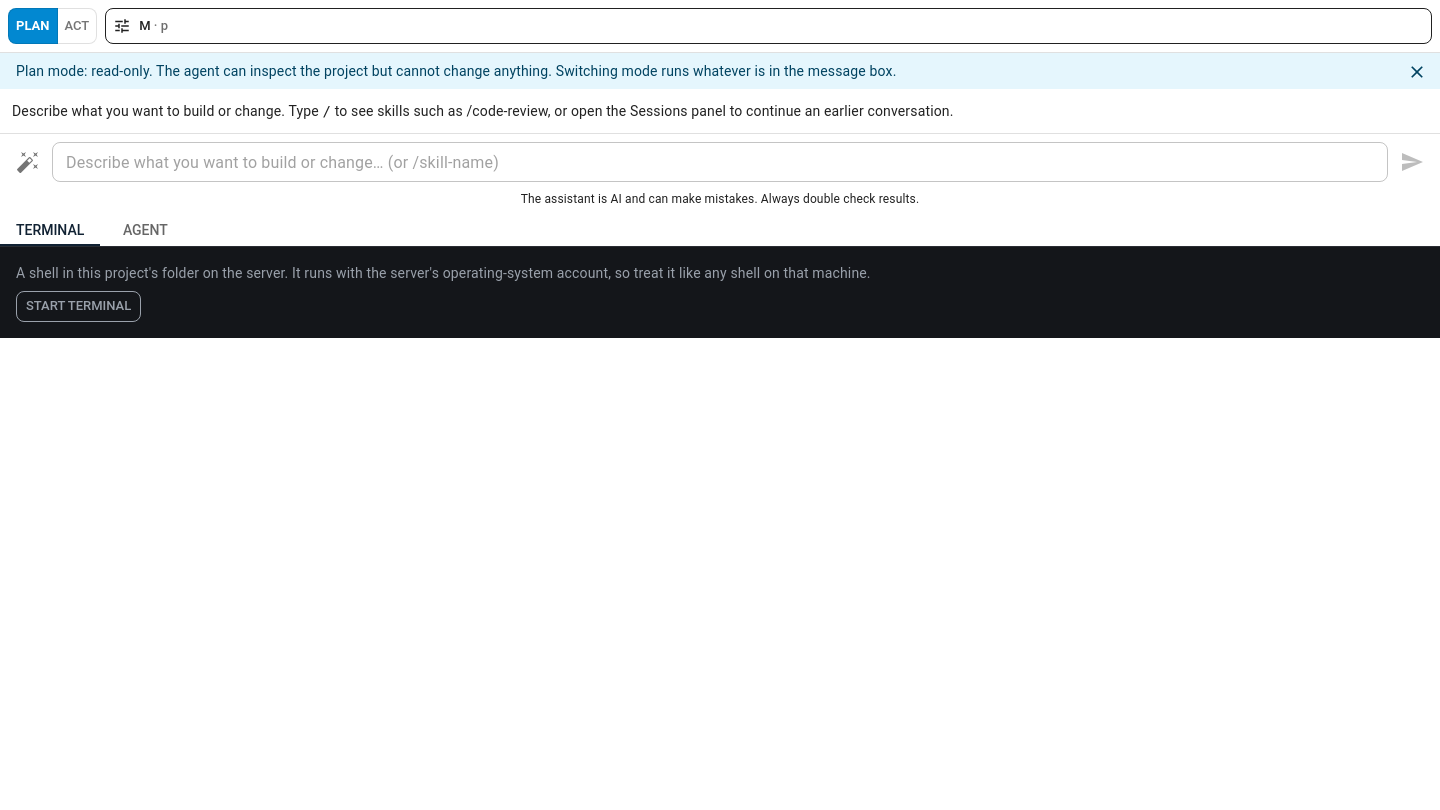
command approval (Allow / Deny) › the chat panel and the terminal pane share one prompt: answering in either clears both
Type "deploy" into the text box named "Message" at (720, 162), box 66,150 -> 1374,174
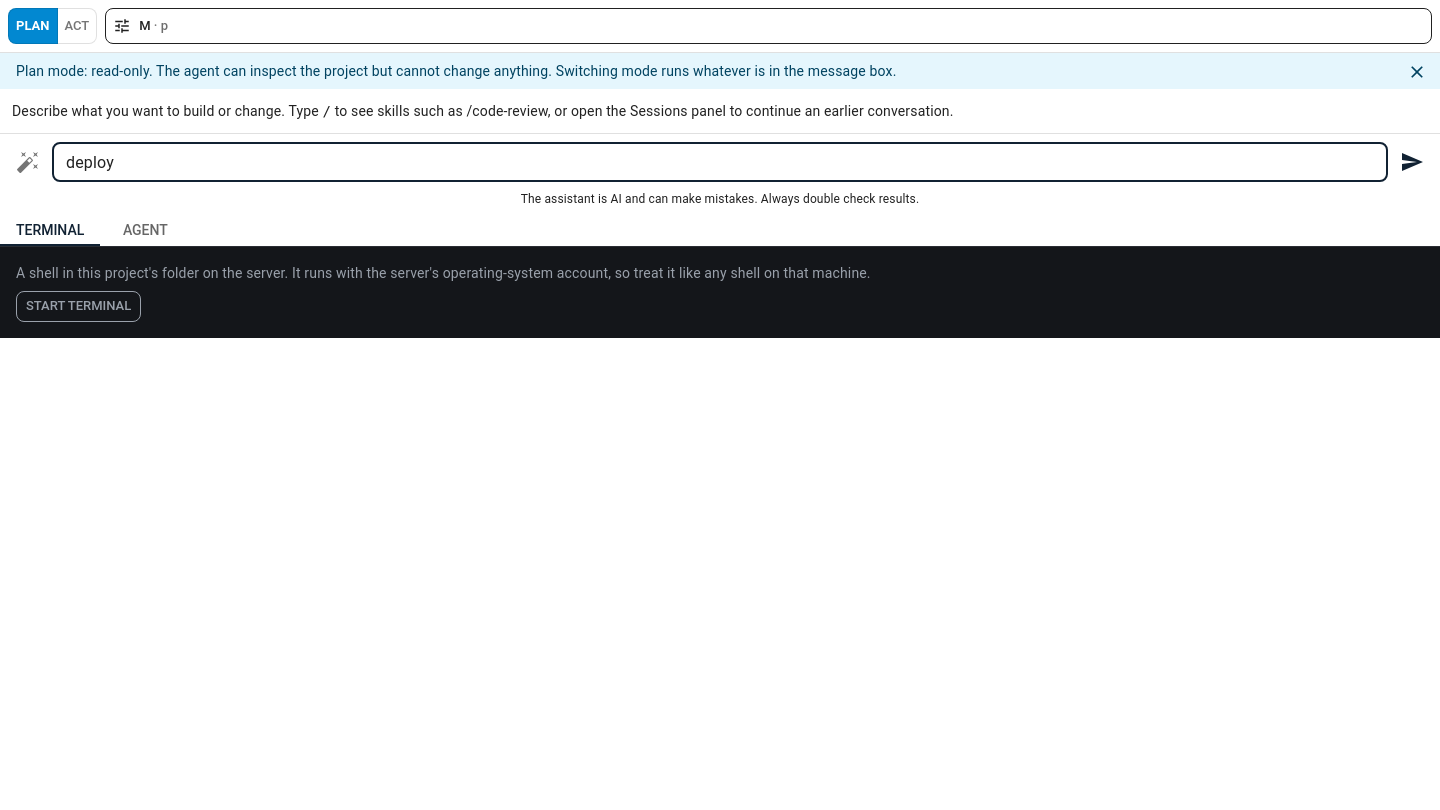
Click the button named "Send" at (1412, 162), box 1392,142 -> 1432,182
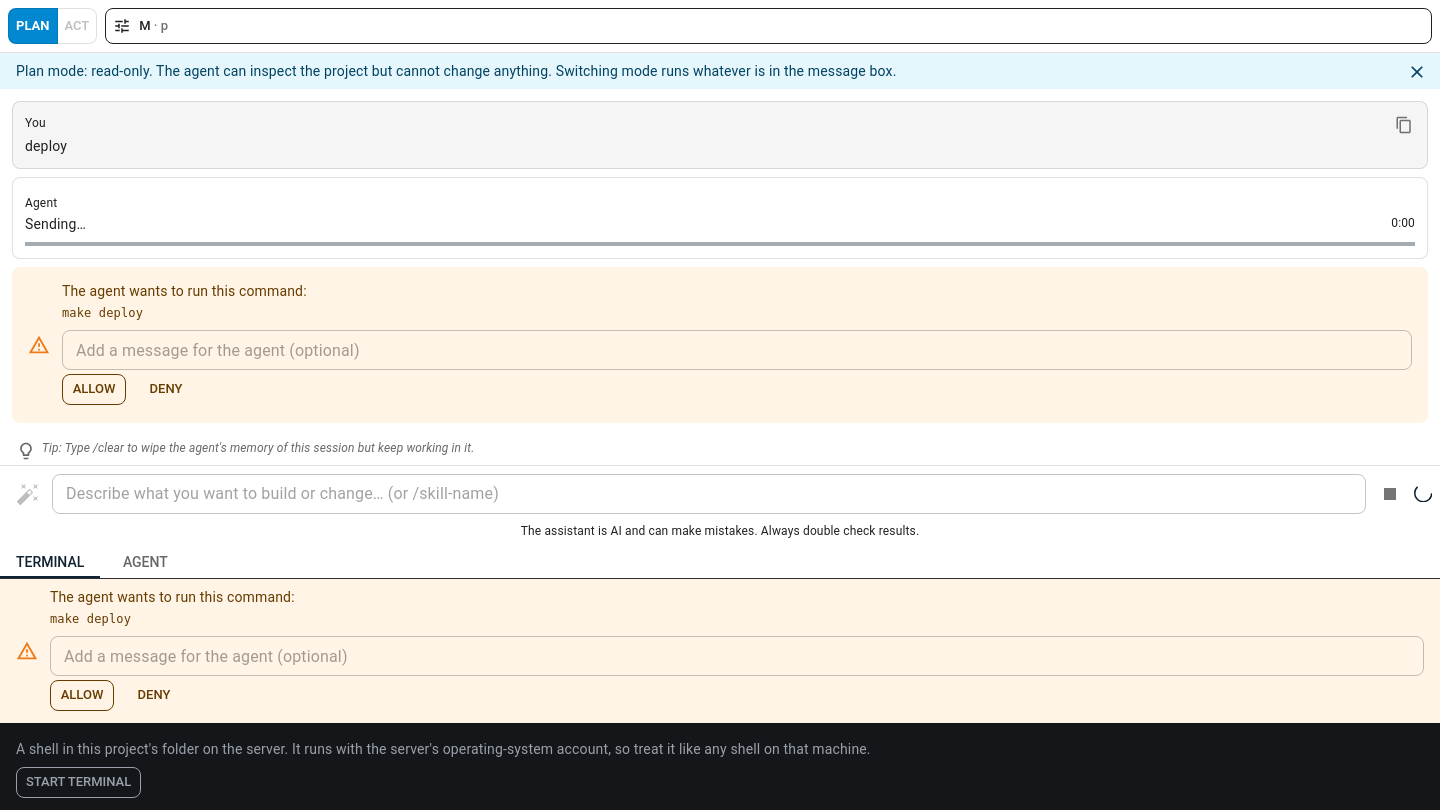
Result: the number of dialogs with test id "approval" is 2 at 12,267 -> 1428,423; 0,579 -> 1439,723
Click the 2nd button "Allow" at (82, 695), box 50,680 -> 114,711
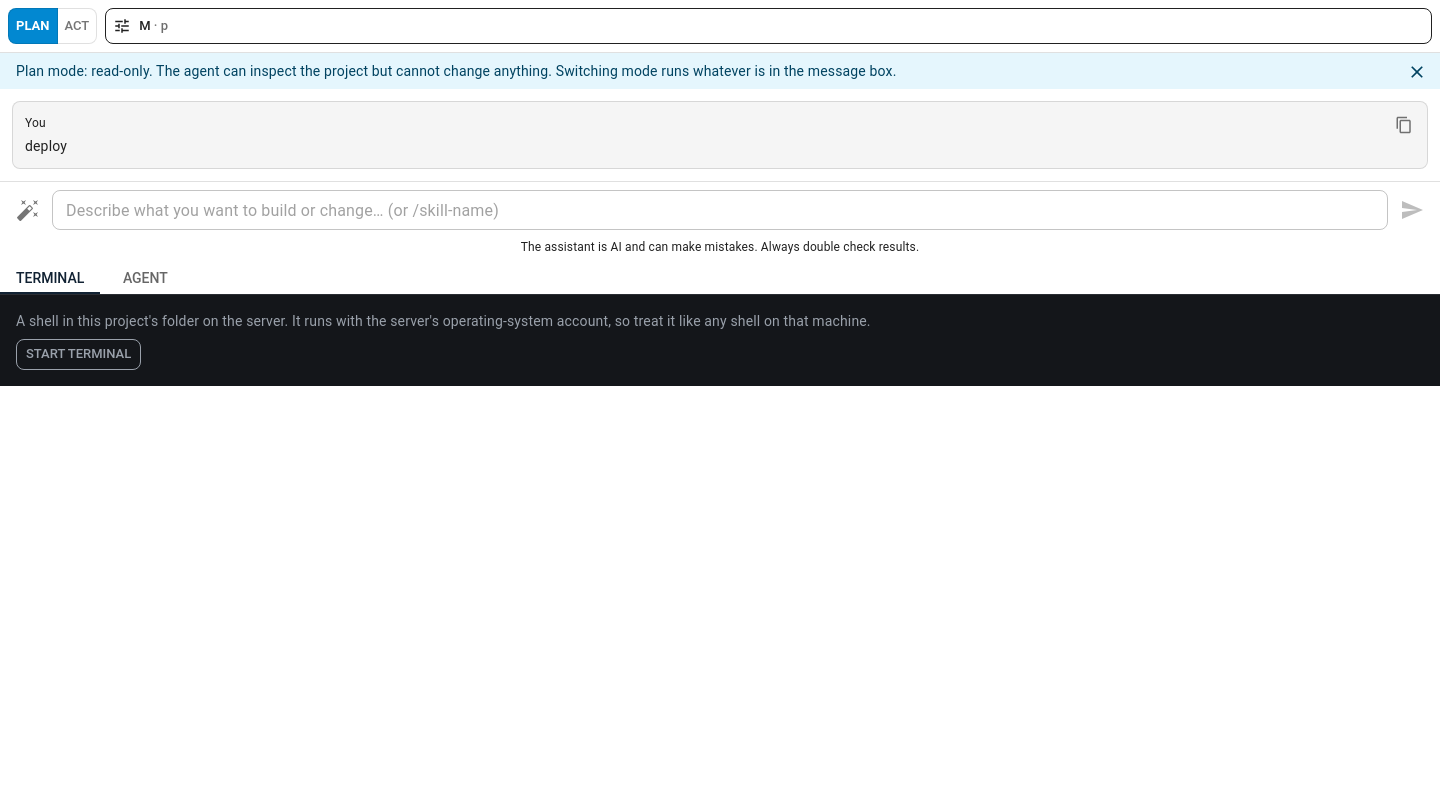
Result: no dialogs with test id "approval" are shown
